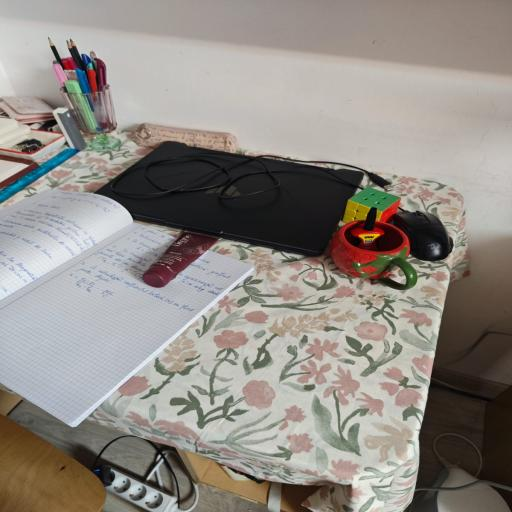Crema Maini: (142, 232, 218, 288)
Rubiks Cube: (345, 184, 400, 224)
Super Glue: (352, 208, 386, 247)
